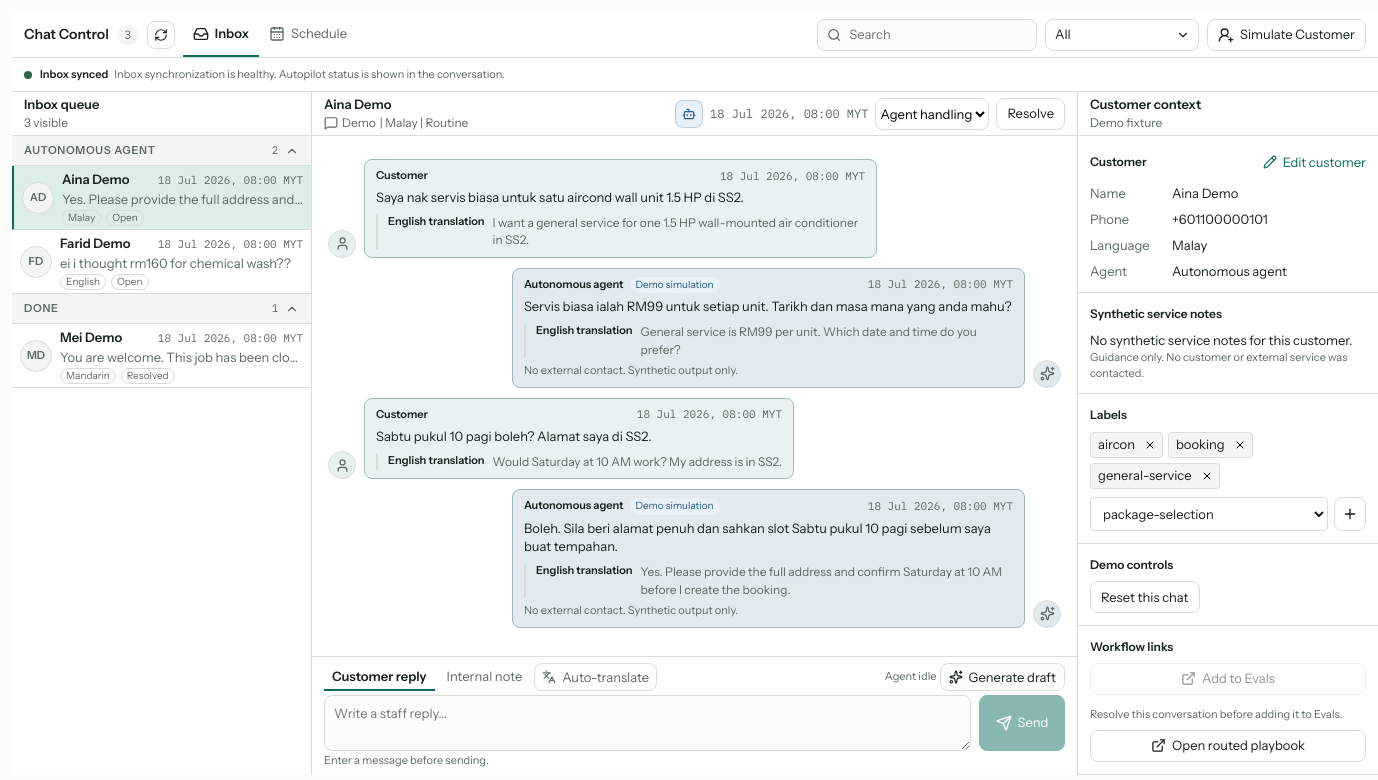
Chat Control route › aborts an in-flight draft when the visitor switches conversations
Click the button "Generate draft" at [1003, 677], box [940, 663, 1065, 691]
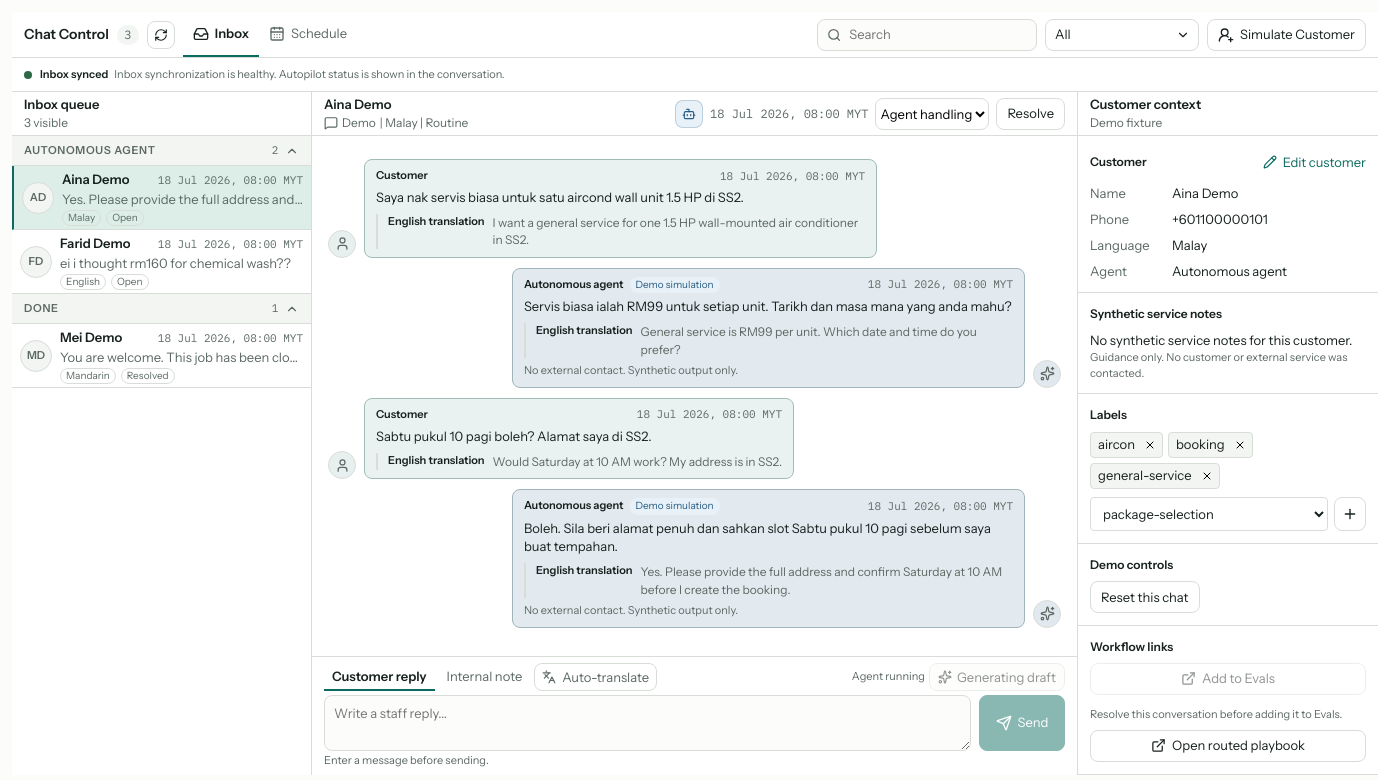
Click the button with aria-label "Open conversation with Farid Demo" at [162, 262], box [12, 230, 311, 294]
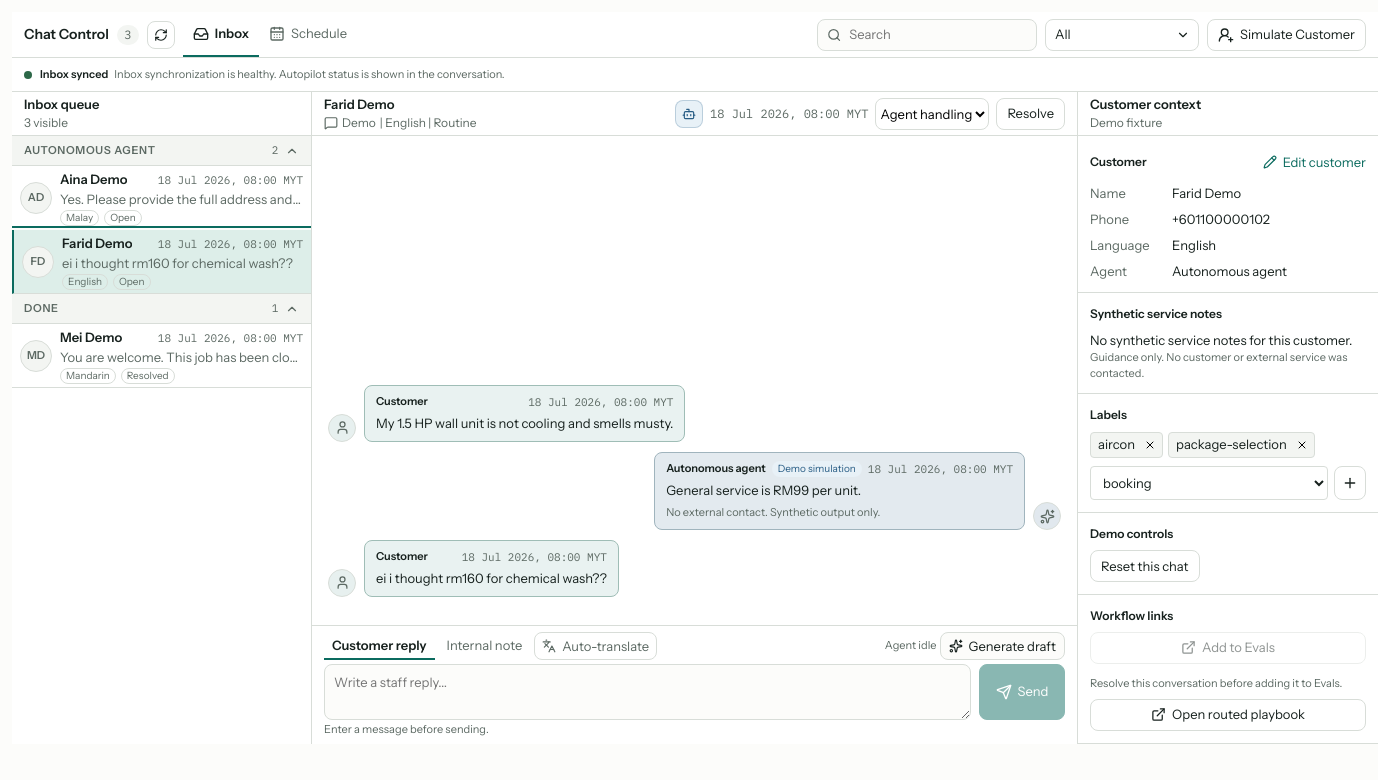
Expected: the text box named "Message" is empty, [324, 664, 971, 720]
Now the element named "Selected conversation" shows "Farid Demo", box [324, 96, 394, 112]
Now the text "Agent idle" is shown, box [885, 638, 936, 654]
